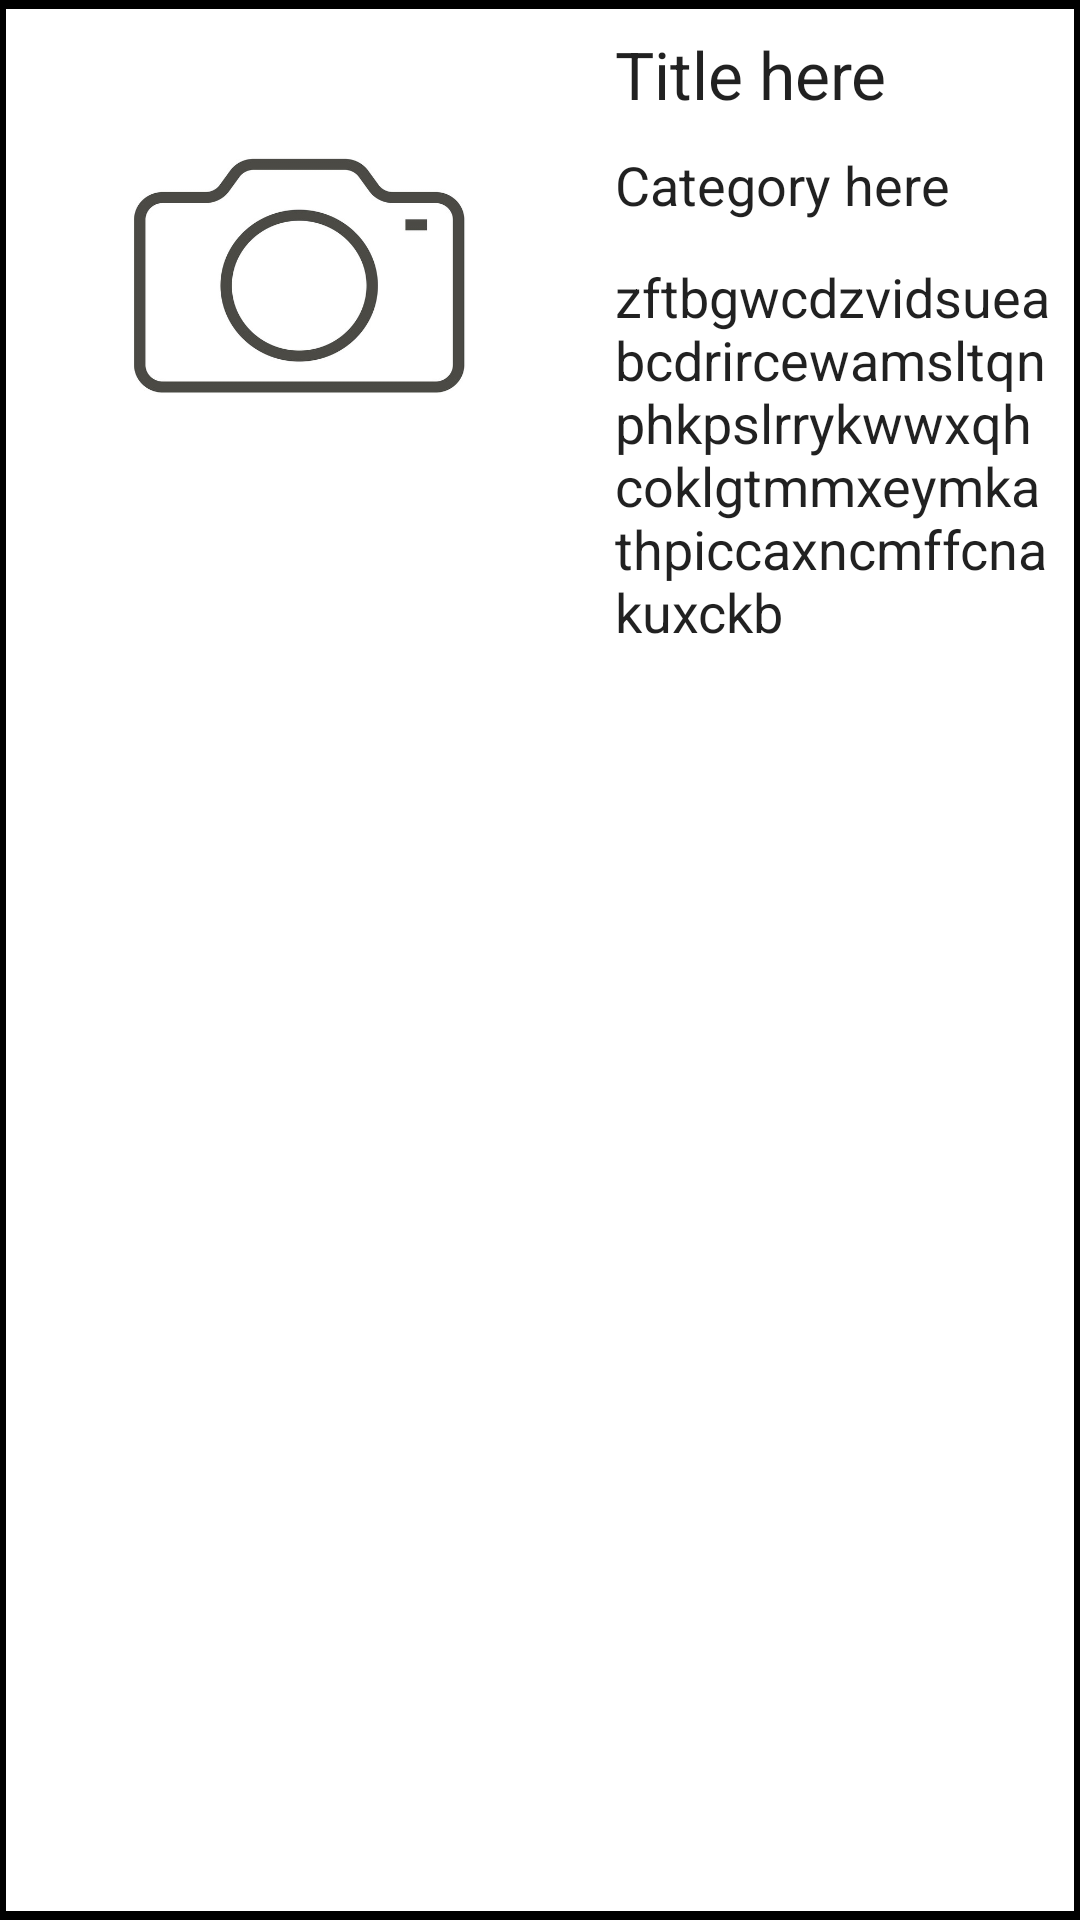

Named icons in this screenshot (1080 × 1920) and their centers, point (x, y):
camera: point (299, 276)
